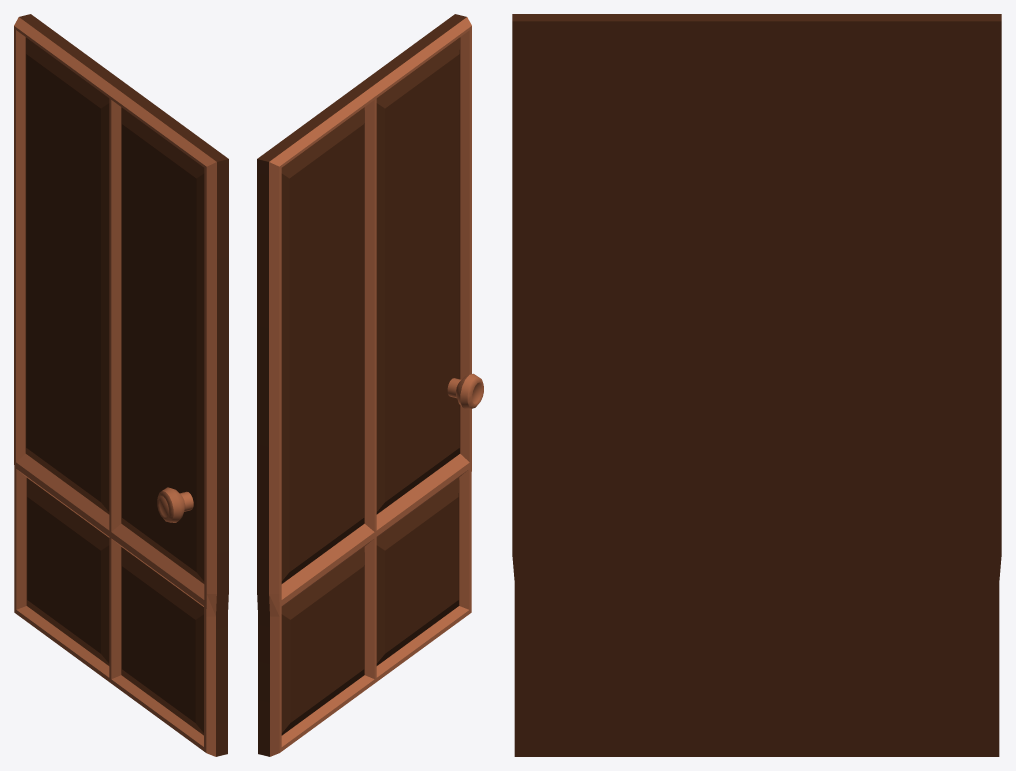
The model's file is armario-porta.FBX.
3 renders of one model, left to right at view 1: azimuth 30°, elevation 25°; view 2: azimuth 150°, elevation 25°; view 3: azimuth 270°, elevation 25°, orthographic. The views are drawn at different scales.
Visible parts, largest first — view 1: Object001; view 2: Object001; view 3: Object001.
Part boxes in pixels (x1,y1,x2,y2): Object001: (14, 14, 228, 756); Object001: (257, 14, 483, 756); Object001: (512, 14, 1001, 756).
Size of the model in its own units: 8.03 by 103 by 61.99.
